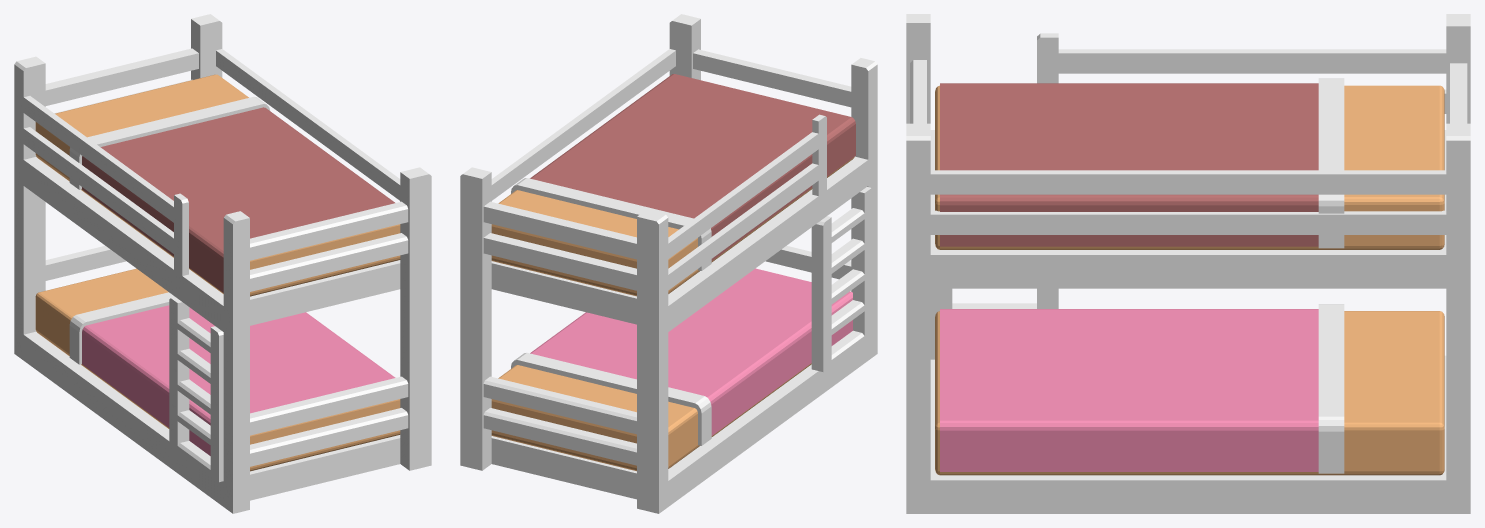
The model's file is Double Bed_5.fbx.
3 renders of one model, left to right at view 1: azimuth 30°, elevation 25°; view 2: azimuth 150°, elevation 25°; view 3: azimuth 270°, elevation 25°, orthographic. The views are drawn at different scales.
Parts seen in each view (by area): view 1: Double Bed_5; view 2: Double Bed_5; view 3: Double Bed_5.
Boxes of the visible parts, box(x1,y1,x2,y2) form: Double Bed_5: box(14, 14, 431, 513); Double Bed_5: box(460, 14, 877, 513); Double Bed_5: box(906, 14, 1470, 513).
Size of the model in its own units: 1.32 by 1.82 by 2.47.
